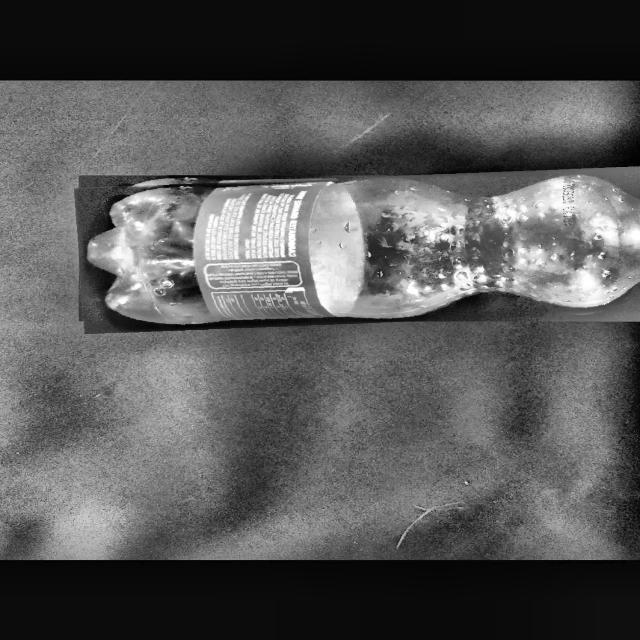Plastic-Bottle: (76, 168, 640, 327)
